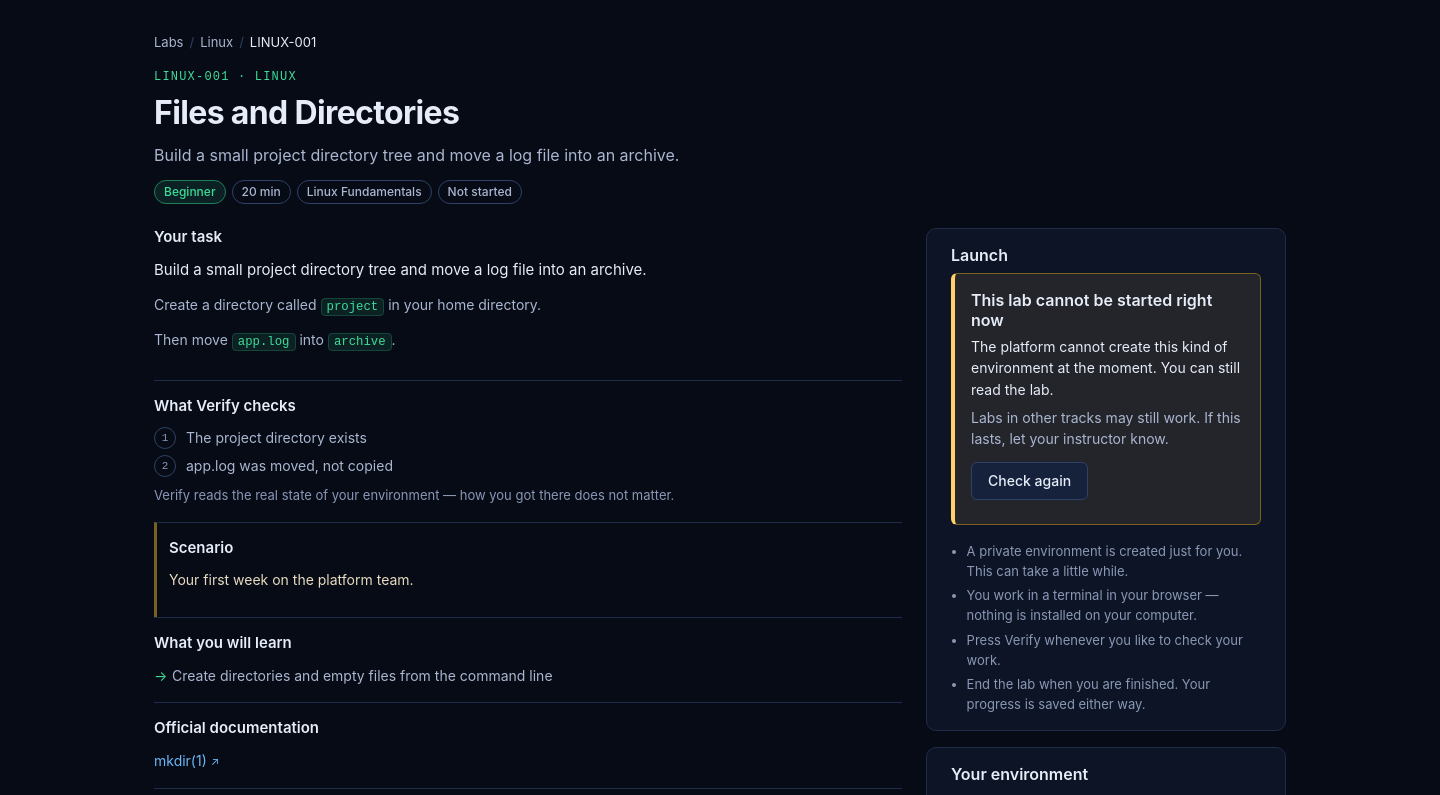
Test: before launch › lets the student check again, in place, when the platform was only busy for a moment
Expected: the heading "Files and Directories" is shown, [154, 93, 459, 132]
Expected: the heading "This lab cannot be started right now" is shown, [971, 290, 1244, 330]
Step 1. Click the button "Check again" → point(1030, 481), box [971, 462, 1088, 500]
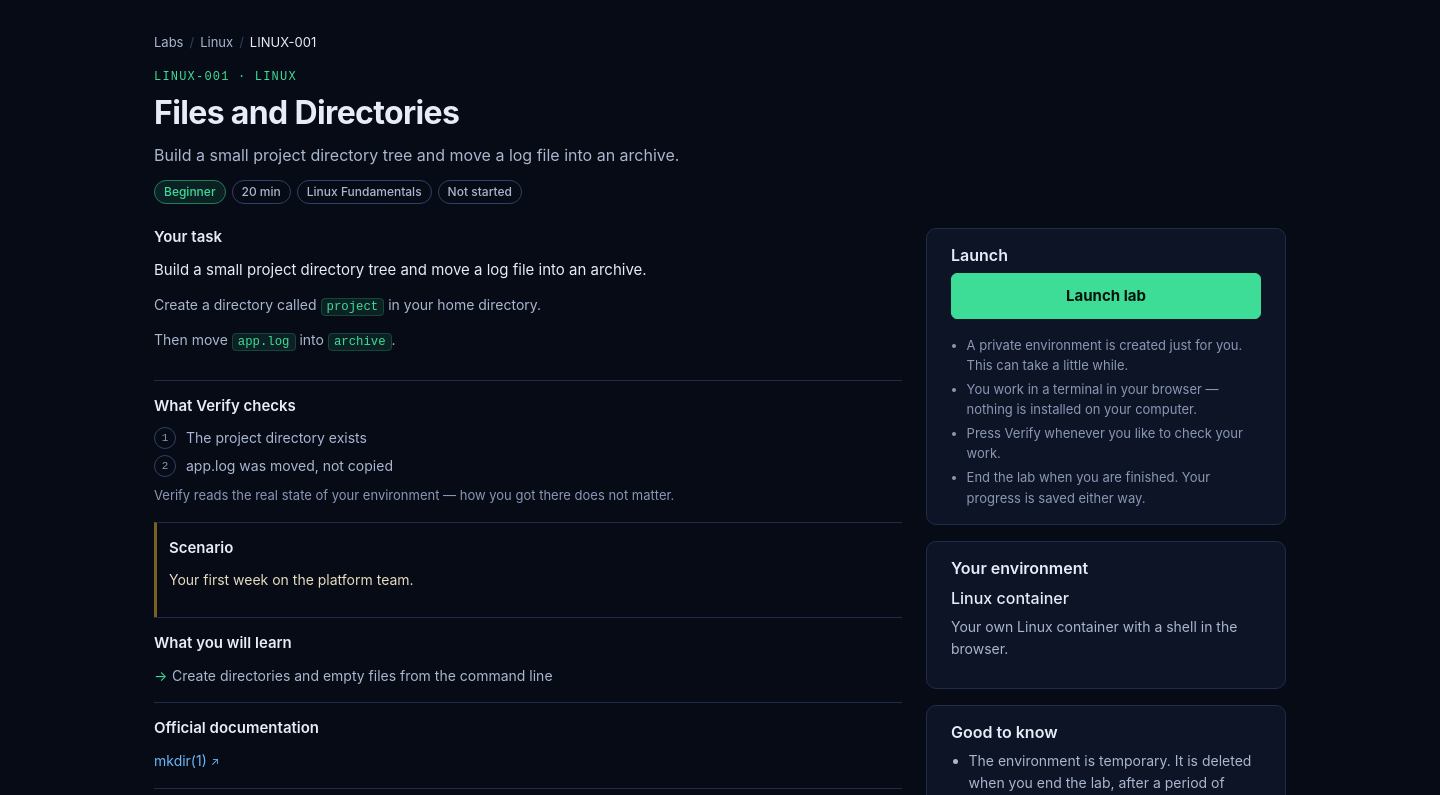
Result: the button "Launch lab" is shown at [951, 272, 1261, 318]
Result: the heading "This lab cannot be started right now" is gone
